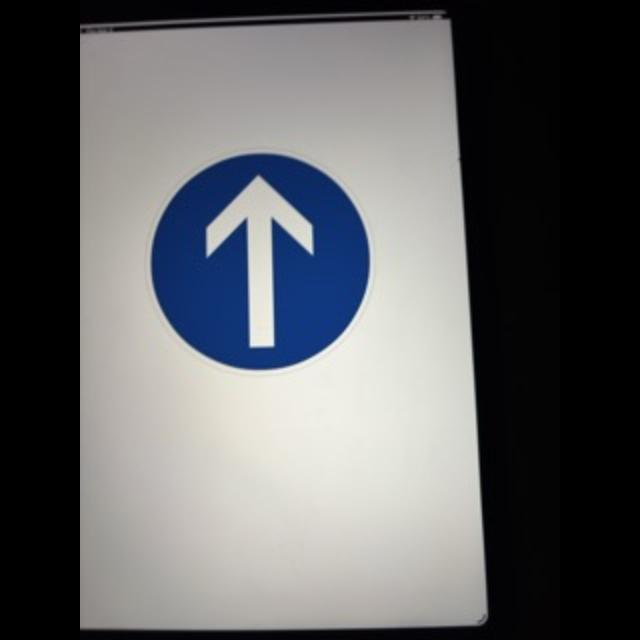GO FORWARD: (146, 151, 378, 375)
